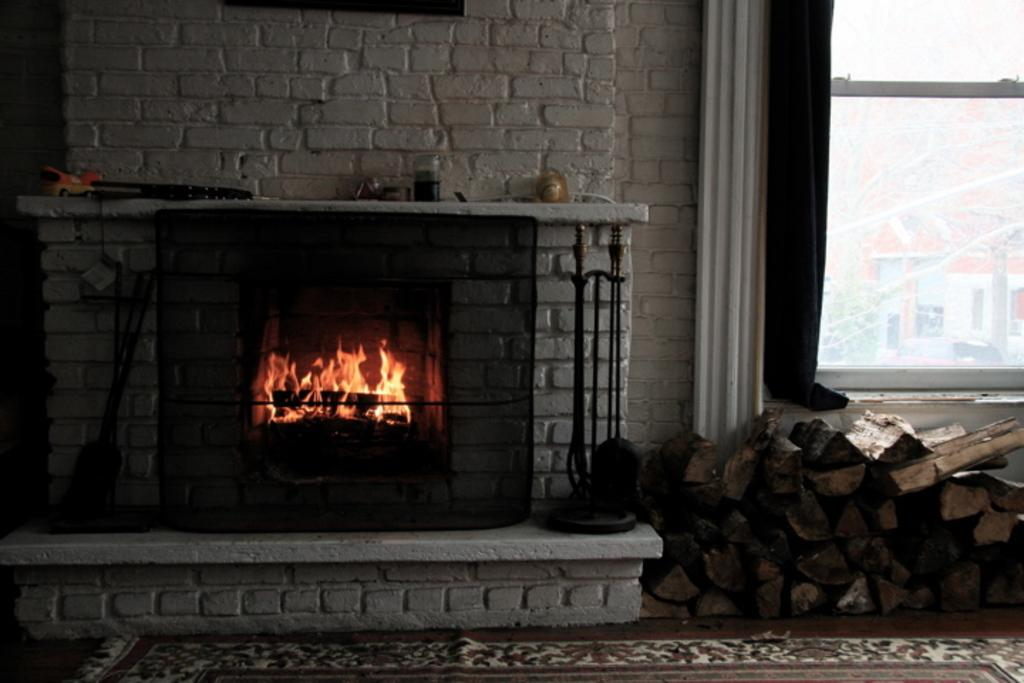Fire: (258, 335, 421, 431)
